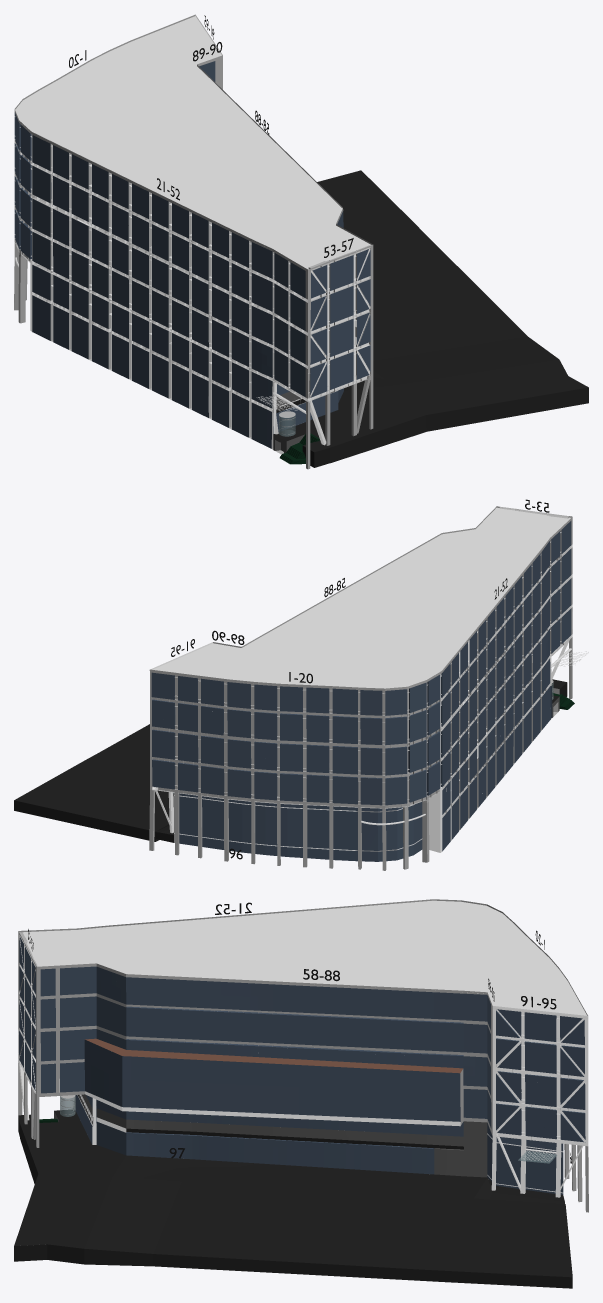
File: 201BishopsGate.glb
3 renders of one model, top to bottom at view 1: azimuth 30°, elevation 25°; view 2: azimuth 150°, elevation 25°; view 3: azimuth 270°, elevation 25°, orthographic. The views are drawn at different scales.
Visible parts, largest first — view 1: Base, 201, Drop47, Drop48, Drop53, Drop26, Drop29, Drop25, Drop45, Drop46, Drop35, Drop39 (+26 smaller); view 2: Base, 201, Drop96, Drop15, Drop16, Drop7, Drop14, Drop1, Drop11, Drop13, Drop18, Drop20 (+43 smaller); view 3: Base, 201, Drop97, Drop88, Drop95, Drop91, Drop76, Drop65, Drop82, Drop79, Drop69, Drop66 (+28 smaller).
Part boxes in pixels (x1,y1,x2,y2): Base: (15,16,588,467); 201: (14,14,373,469); Drop47: (251,242,262,443); Drop48: (261,247,272,448); Drop53: (310,265,327,397); Drop26: (41,139,50,340); Drop29: (71,154,80,354); Drop25: (32,135,41,336); Drop45: (231,232,240,433); Drop46: (240,236,248,437); Drop35: (132,183,140,384); Drop39: (172,203,180,404); Base: (14,507,571,842); 201: (149,506,572,870); Drop96: (179,793,422,861); Drop15: (332,688,345,803); Drop16: (345,689,357,804); Drop7: (227,682,239,797); Drop14: (317,688,329,802); Drop1: (151,672,163,787); Drop11: (280,686,292,800); Drop13: (306,687,317,802); Drop18: (371,690,382,805); Drop20: (396,689,407,804); Base: (14,900,587,1288); 201: (14,899,588,1261); Drop97: (76,1095,563,1192); Drop88: (463,993,487,1118); Drop95: (560,1016,585,1142); Drop91: (496,1009,521,1135); Drop76: (284,985,302,1114); Drop65: (122,977,140,1107); Drop82: (372,989,390,1118); Drop79: (328,987,346,1116); Drop69: (182,980,199,1110); Drop66: (138,978,155,1108).
Bounding box in the file's own units: 119 × 60.93 × 150.
